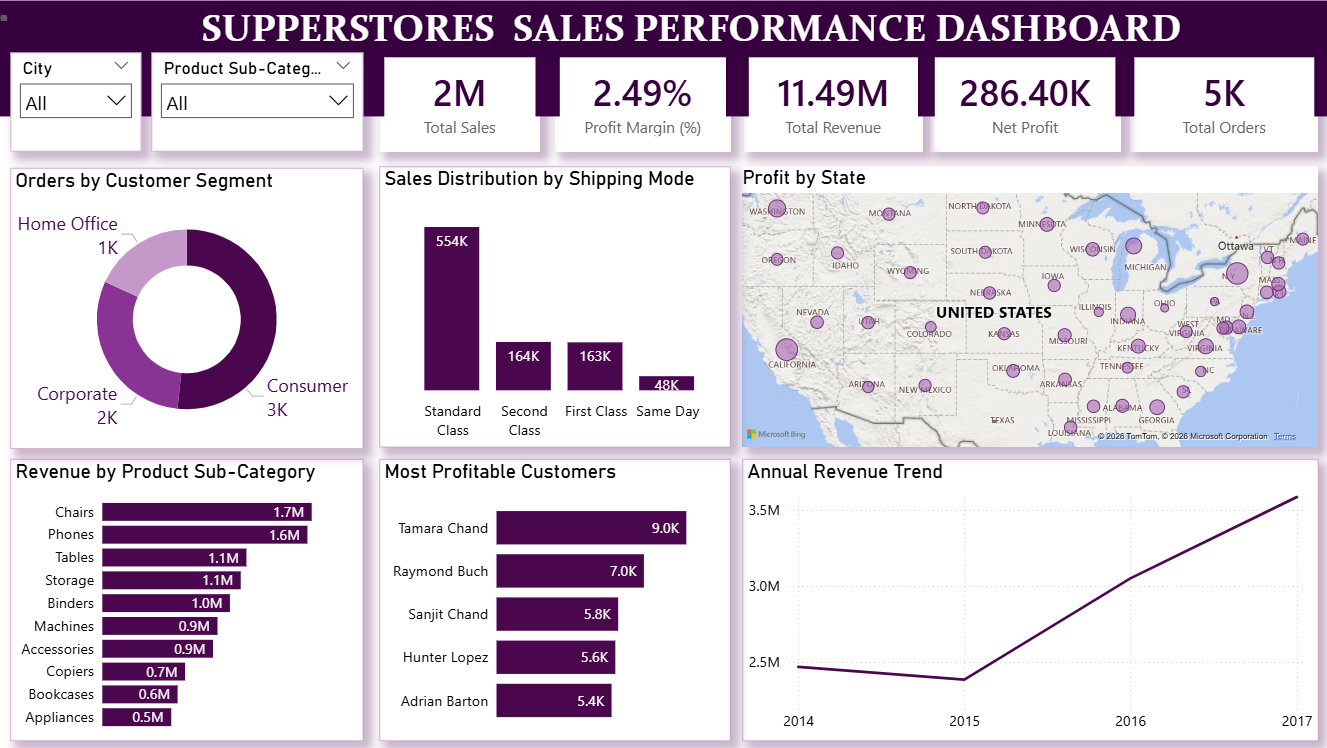

Layout of this report page (visuals, bound fields, positions):
{"tool":"powerbi","page":{"name":"Page 1","canvas":[1480,834],"ordinal":0},"visuals":[{"type":"shape","box":[0,0,1480,130],"z":0},{"type":"cardVisual","fields":{"Data":["Sample - Superstore.Profit Margine"]},"box":[620,58.3,195,110],"z":1000},{"type":"cardVisual","fields":{"Data":["Sample - Superstore.Total Orders"]},"box":[1258.3,58.3,210,110],"z":2000},{"type":"cardVisual","fields":{"Data":["Sample - Superstore.Total Revenue"]},"box":[830,58.3,198.3,110],"z":3000},{"type":"cardVisual","fields":{"Data":["Sample - Superstore.Total Profit"]},"box":[1036.7,58.3,211.7,110],"z":4000},{"type":"map","title":"Profit by State","fields":{"Size":["Sample - Superstore.Total Profit"],"Category":["Sample - Superstore.State"]},"box":[828.3,185,640,311.7],"z":5000},{"type":"barChart","title":"Revenue by Product Sub-Category","fields":{"Y":["Sample - Superstore.Total Revenue"],"Category":["Sample - Superstore.Sub-Category"]},"box":[15,509.6,391.7,313.3],"z":6000},{"type":"donutChart","title":"Orders by Customer Segment","fields":{"Y":["Sample - Superstore.Total Orders"],"Category":["Sample - Superstore.Segment"]},"box":[15,186.3,391.7,311.7],"z":7000},{"type":"barChart","title":"Most Profitable Customers","fields":{"Y":["Sample - Superstore.Total Profit"],"Category":["Sample - Superstore.Customer Name"]},"box":[425,509.6,390,313.3],"z":8000},{"type":"lineChart","title":"Annual Revenue Trend","fields":{"Y":["Sample - Superstore.Total Revenue"],"Category":["Sample - Superstore.Order Date.Variation.Date Hierarchy.Year"]},"box":[828.3,509.6,640,313.3],"z":9000},{"type":"columnChart","title":"Sales Distribution by Shipping Mode","fields":{"Category":["Sample - Superstore.Ship Mode"],"Y":["Sample - Superstore.Total Sales"]},"box":[425,184.6,390,311.7],"z":10000},{"type":"cardVisual","fields":{"Data":["Sample - Superstore.Total Sales"]},"box":[425,58.3,178.3,110],"z":11000},{"type":"textbox","box":[75,0,1393.3,61.7],"z":11001},{"type":"slicer","fields":{"Values":["Sample - Superstore.City"]},"box":[15,58.3,145,110],"z":11002},{"type":"slicer","fields":{"Values":["Sample - Superstore.Sub-Category"]},"box":[171.7,58.3,235,110],"z":11003},{"type":"actionButton","box":[0,0,15,40],"z":11004}]}

Visuals, with their boxes in screenshot pixels (x1, y1, x2, y2), scaled from the page's 1480x834 canvas onto the 1327x748 screenshot:
shape: bbox=(0, 0, 1326, 117)
cardVisual - Sample - Superstore.Profit Margine: bbox=(556, 52, 731, 151)
cardVisual - Sample - Superstore.Total Orders: bbox=(1128, 52, 1317, 151)
cardVisual - Sample - Superstore.Total Revenue: bbox=(744, 52, 922, 151)
cardVisual - Sample - Superstore.Total Profit: bbox=(930, 52, 1119, 151)
"Profit by State" map: bbox=(743, 166, 1317, 445)
"Revenue by Product Sub-Category" barChart: bbox=(13, 457, 365, 738)
"Orders by Customer Segment" donutChart: bbox=(13, 167, 365, 447)
"Most Profitable Customers" barChart: bbox=(381, 457, 731, 738)
"Annual Revenue Trend" lineChart: bbox=(743, 457, 1317, 738)
"Sales Distribution by Shipping Mode" columnChart: bbox=(381, 166, 731, 445)
cardVisual - Sample - Superstore.Total Sales: bbox=(381, 52, 541, 151)
textbox: bbox=(67, 0, 1317, 55)
slicer - Sample - Superstore.City: bbox=(13, 52, 143, 151)
slicer - Sample - Superstore.Sub-Category: bbox=(154, 52, 365, 151)
actionButton: bbox=(0, 0, 13, 36)
